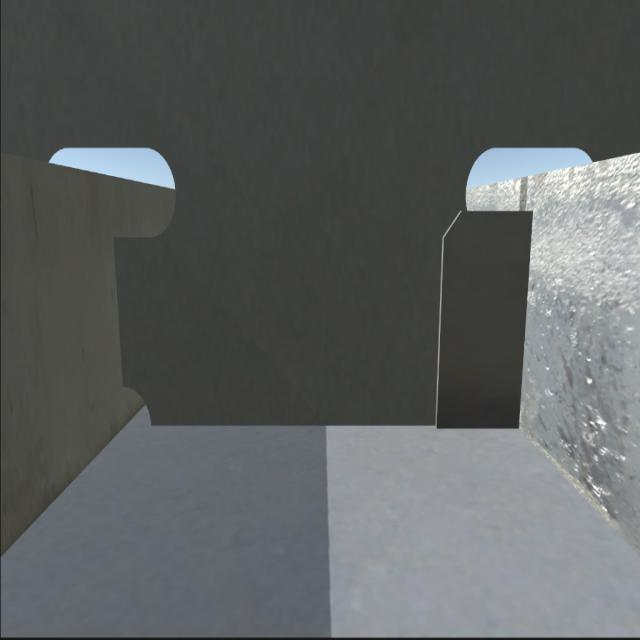fillet_hole: (116, 385, 153, 430)
fillet_yong_jeop_jang: (157, 419, 522, 432)
longi_yong_jeop_jang: (523, 213, 536, 426), (112, 238, 130, 382)
plate_CP03: (435, 210, 527, 427)
